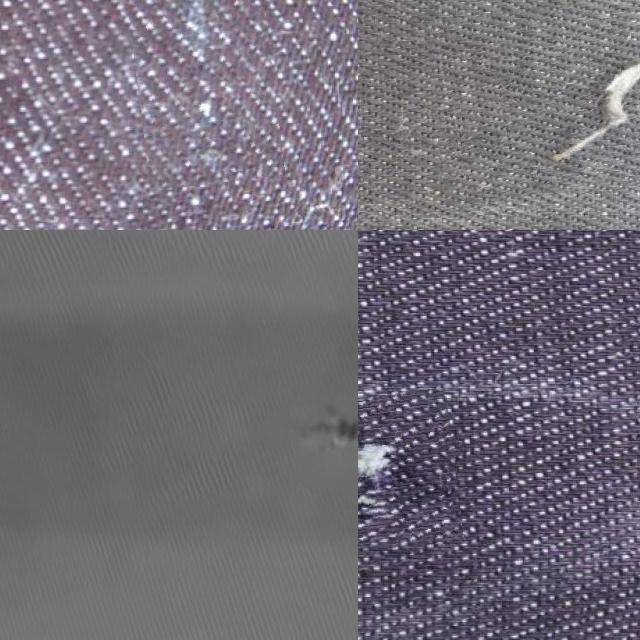other: (293, 377, 358, 489)
stains: (428, 0, 640, 199), (115, 0, 273, 187), (358, 392, 458, 556)
